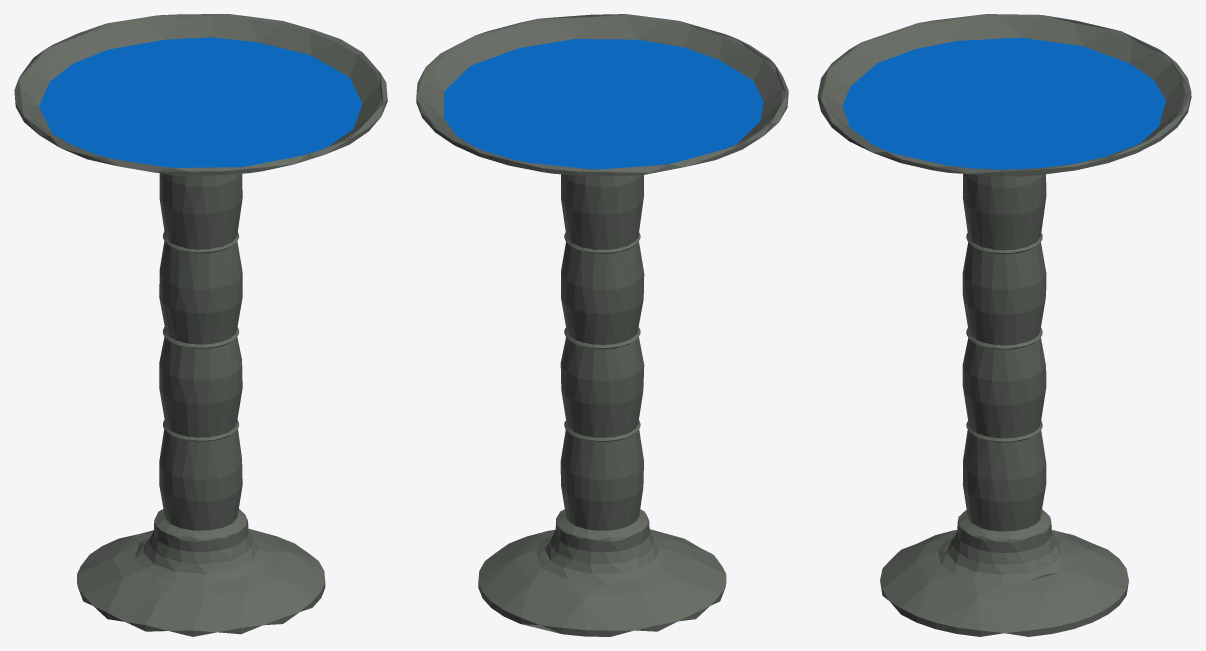
Rendered from Bird bath.fbx.
3 renders of one model, left to right at view 1: azimuth 30°, elevation 25°; view 2: azimuth 150°, elevation 25°; view 3: azimuth 270°, elevation 25°, orthographic.
Parts seen in each view (by area): view 1: Bird Bath, Water; view 2: Bird Bath, Water; view 3: Bird Bath, Water.
Part boxes in pixels (x1,y1,x2,y2): Bird Bath: [14, 14, 387, 636]; Water: [38, 37, 362, 167]; Bird Bath: [416, 14, 788, 636]; Water: [443, 39, 763, 169]; Bird Bath: [817, 14, 1191, 636]; Water: [842, 37, 1165, 169].
Bounding box in the file's own units: 0.8037 × 1.17 × 0.8037.
